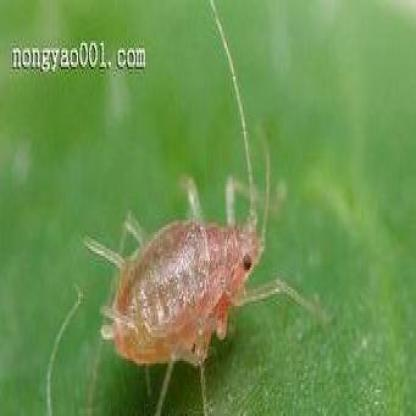aphid: (67, 104, 319, 416)
